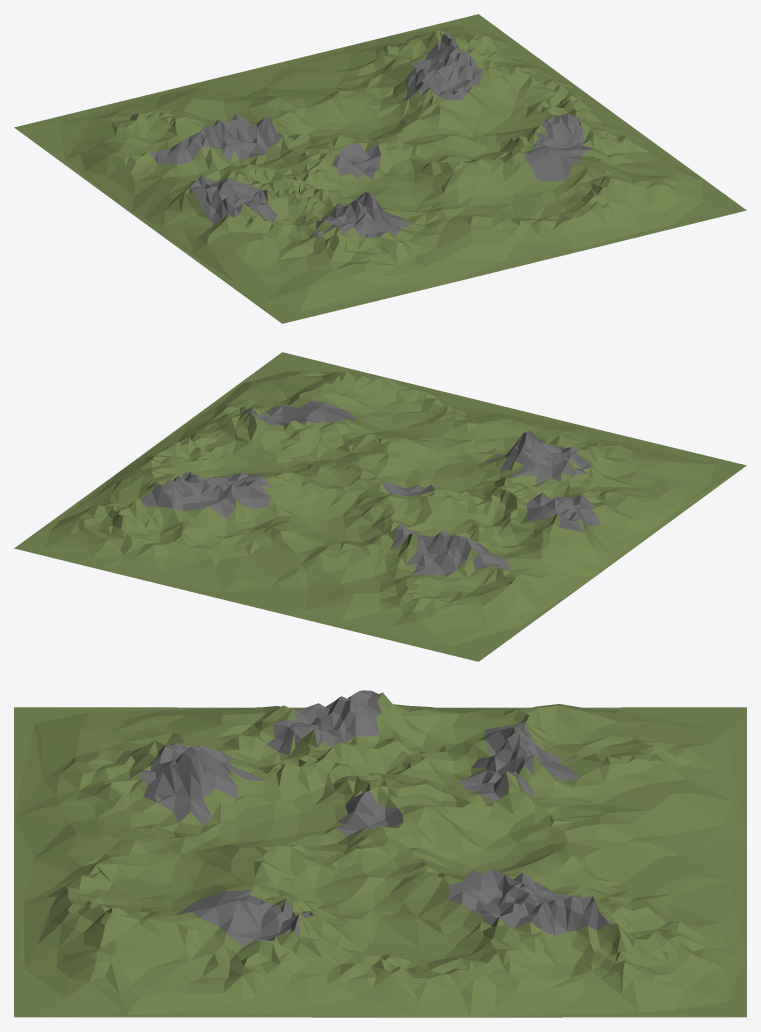
The model's file is Terrain_06.fbx.
3 views of the same model, one above another, from view 1: azimuth 30°, elevation 25°; view 2: azimuth 150°, elevation 25°; view 3: azimuth 270°, elevation 25° (orthographic). The views are drawn at different scales.
Parts seen in each view (by area): view 1: Terrain_06; view 2: Terrain_06; view 3: Terrain_06.
Boxes of the visible parts, bbox=[...] form: Terrain_06: bbox=[14, 14, 746, 323]; Terrain_06: bbox=[14, 352, 746, 661]; Terrain_06: bbox=[14, 690, 746, 1017].
Bounding box in the file's own units: 20000 × 1883 × 20000.
